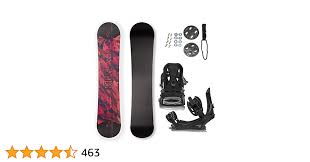snowboard: (129, 21, 156, 138), (96, 21, 122, 139)
